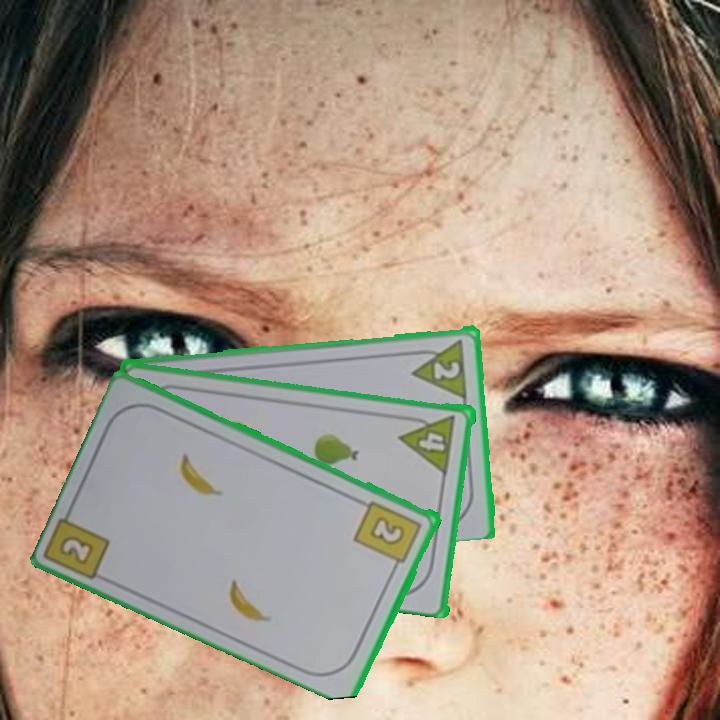2b: (351, 497, 425, 574), (56, 532, 98, 568)
2p: (407, 335, 471, 399)
4p: (398, 411, 459, 476)
